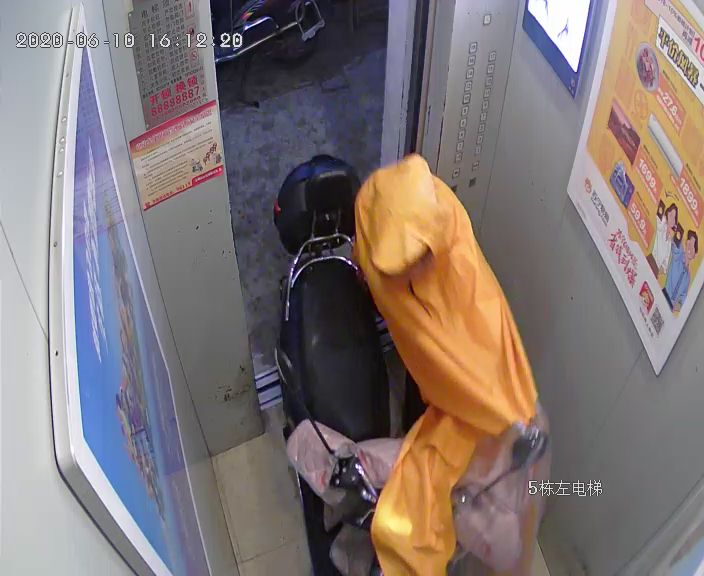Electric-bicycle: (272, 148, 392, 570)
